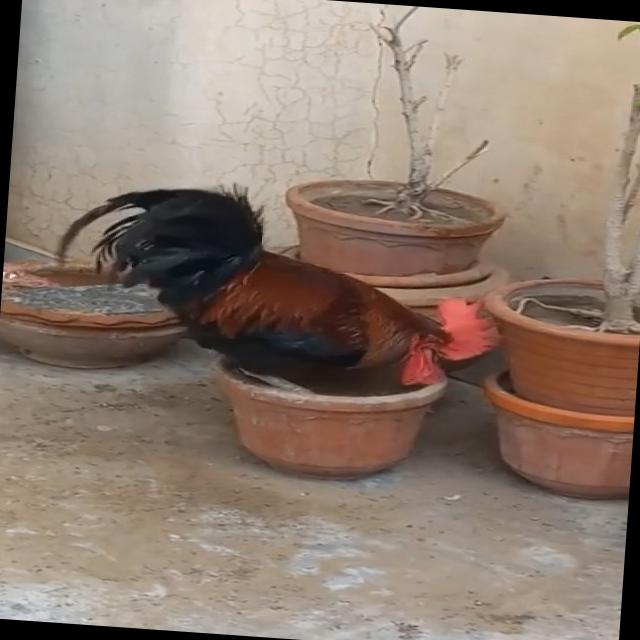stand bath: (68, 159, 507, 430)
